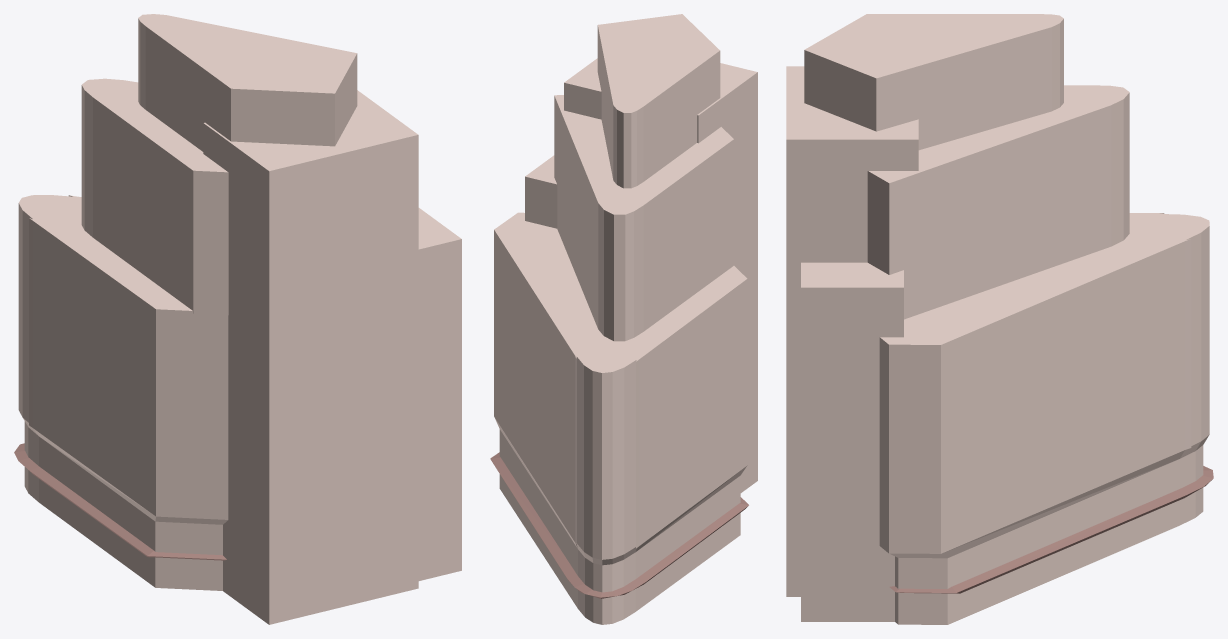
The model's file is Esquina1.FBX.
The picture shows the model from 3 angles, left to right: view 1: azimuth 30°, elevation 25°; view 2: azimuth 150°, elevation 25°; view 3: azimuth 270°, elevation 25°; orthographic projection. The views are drawn at different scales.
Visible parts, largest first — view 1: Esquina1; view 2: Esquina1; view 3: Esquina1.
Part boxes in pixels (bbox=[...]): Esquina1: bbox=[14, 14, 461, 624]; Esquina1: bbox=[490, 14, 757, 624]; Esquina1: bbox=[786, 14, 1213, 624].
Bounding box in the file's own units: 1696 × 3005 × 2282.
